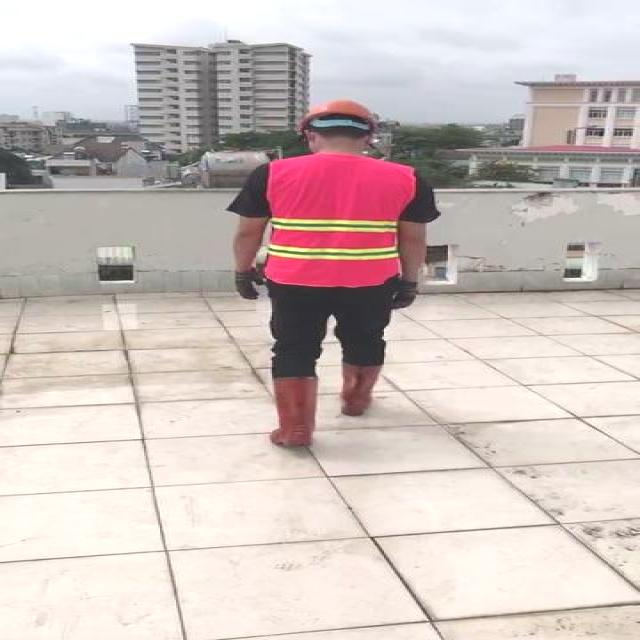boots: (270, 377, 320, 449), (338, 362, 384, 415)
hand_glove: (233, 268, 265, 301), (391, 282, 416, 310)
head_helmet: (299, 98, 384, 125)
person: (224, 96, 434, 460)
vest: (265, 158, 409, 286)
